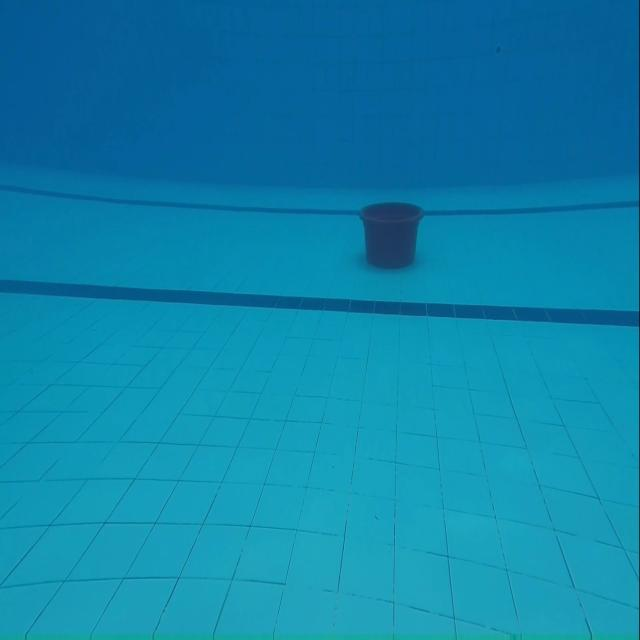ember: (362, 201, 426, 268)
